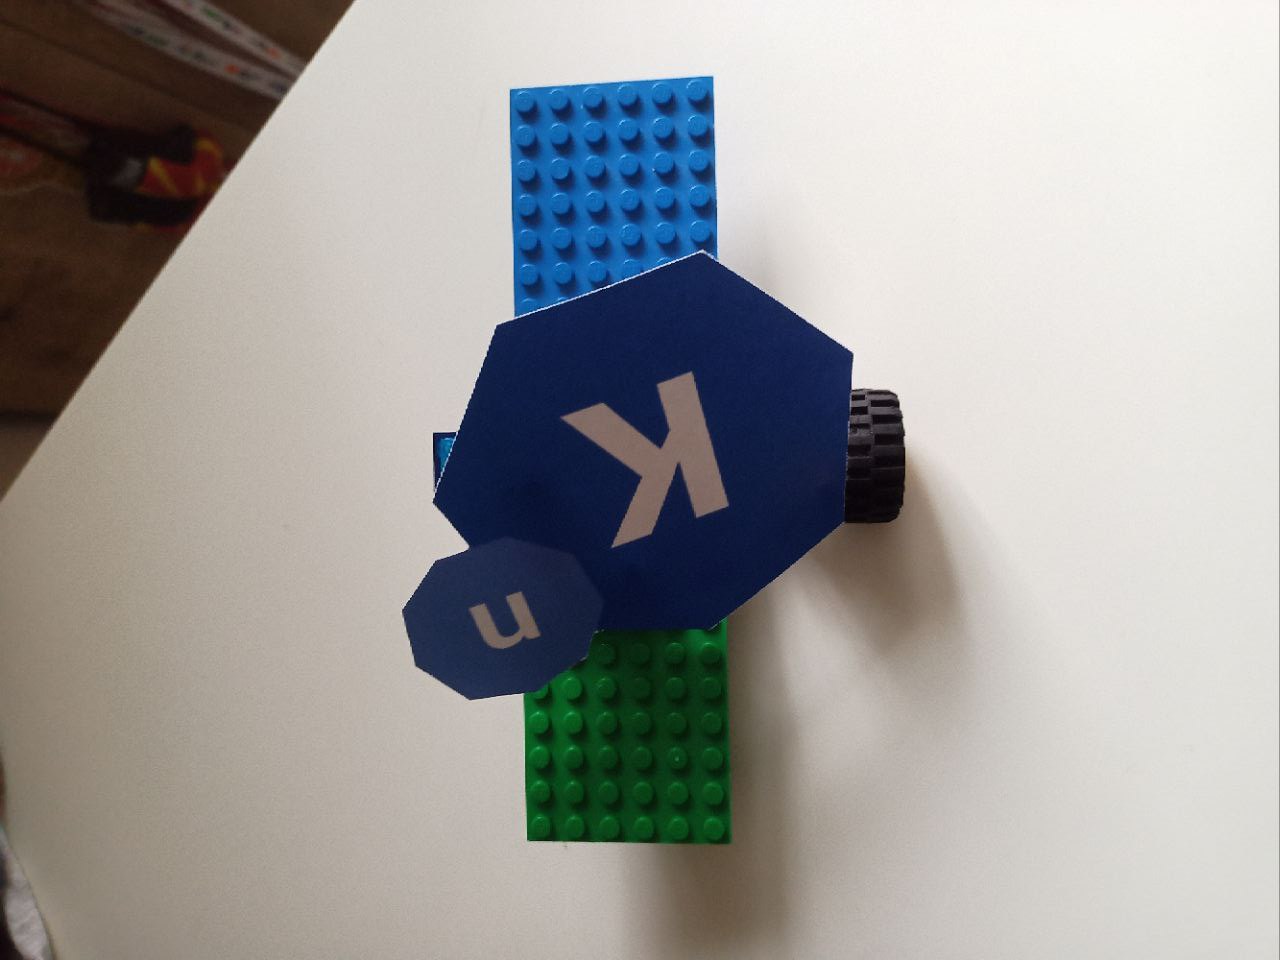knative: (403, 249, 846, 701)
